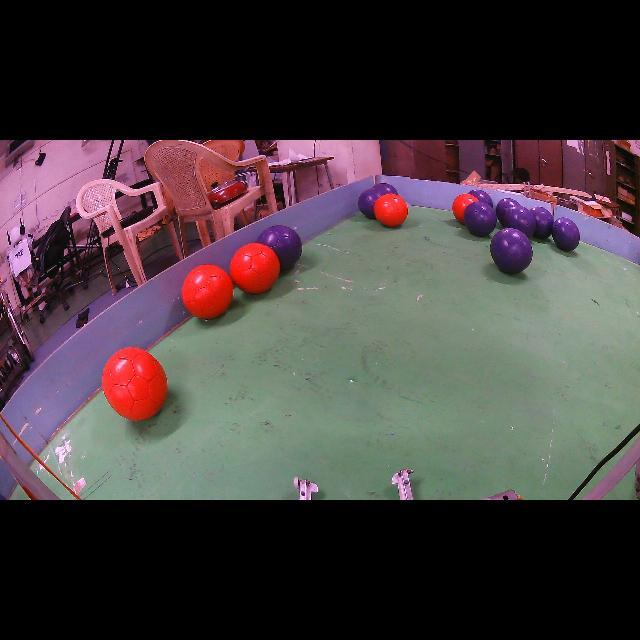P: (258, 225, 302, 271), (490, 228, 532, 274), (359, 182, 398, 219), (464, 201, 498, 236), (504, 205, 536, 238), (552, 218, 580, 251), (530, 206, 554, 239), (495, 199, 519, 227), (469, 189, 492, 208)
R: (102, 348, 168, 420), (182, 265, 234, 319), (230, 242, 280, 294), (374, 194, 408, 226), (452, 194, 479, 224)
